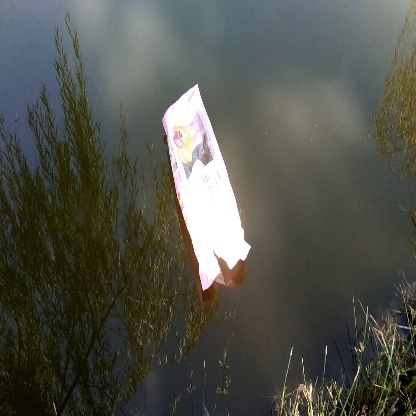plastic-bag: (157, 80, 263, 293)
